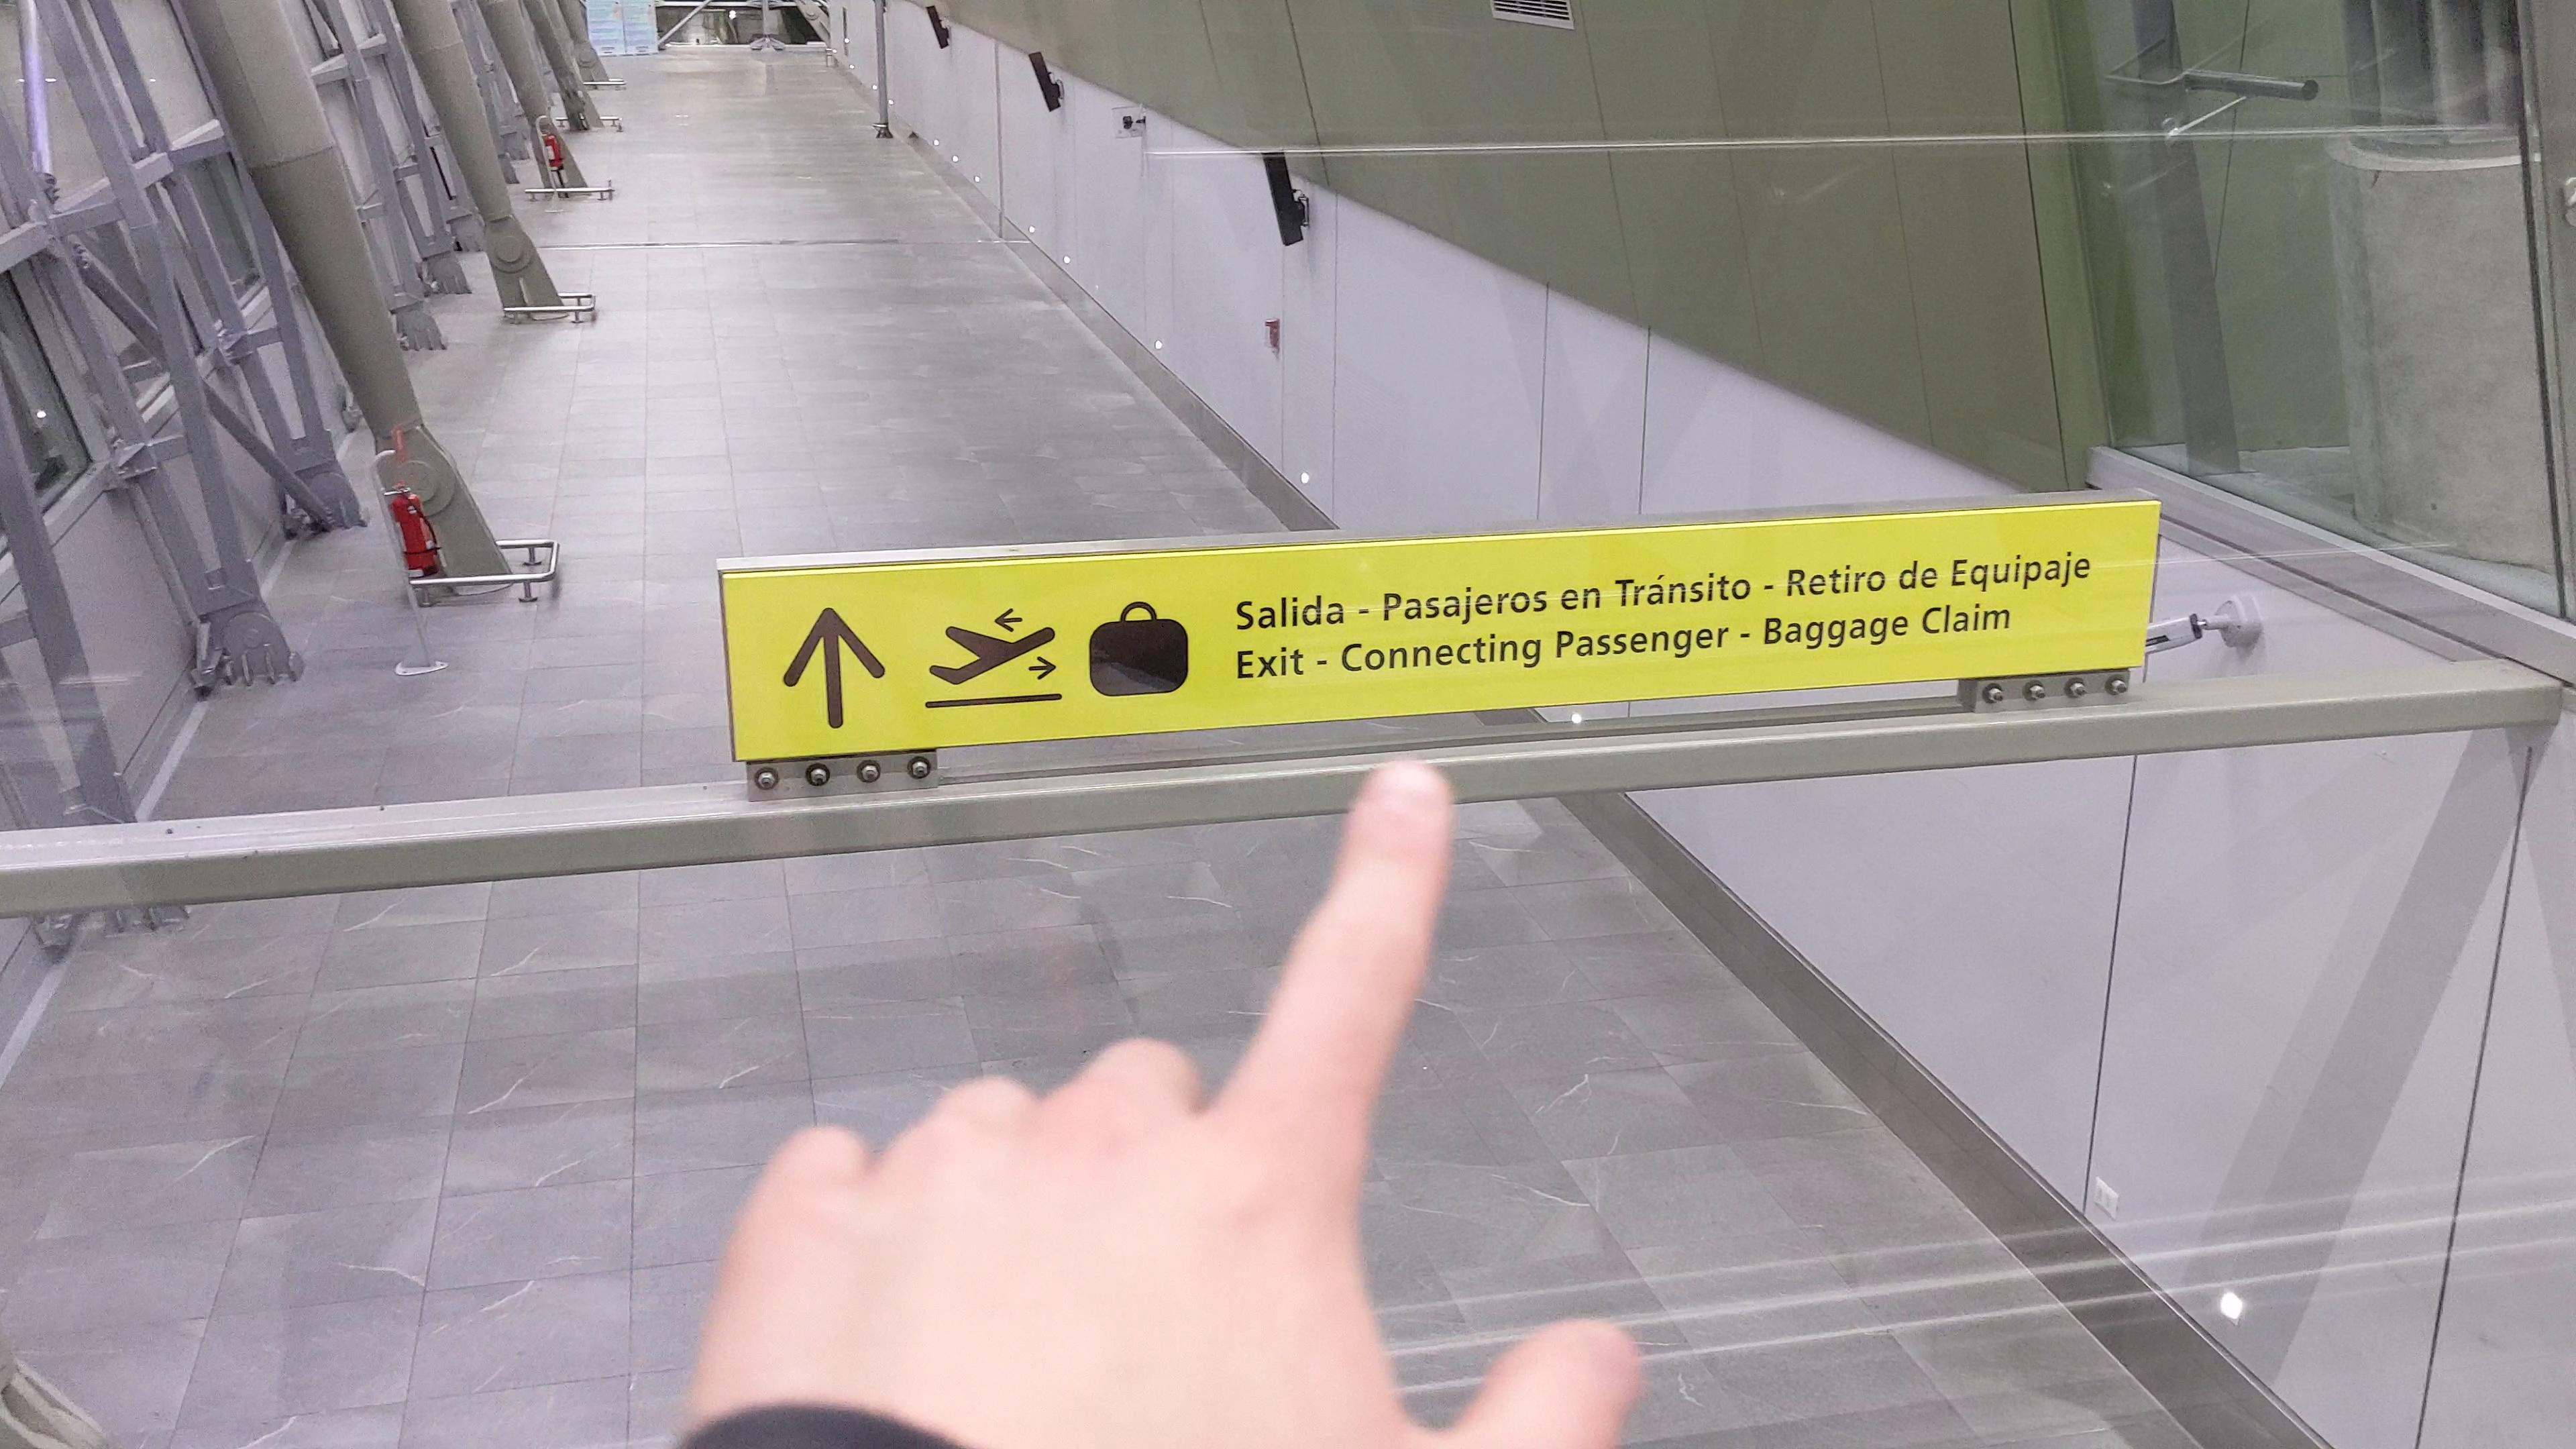airplane symbol: (925, 607, 1063, 694)
baggage claim: (1088, 598, 1191, 699)
thin up arrow: (778, 602, 890, 740)
